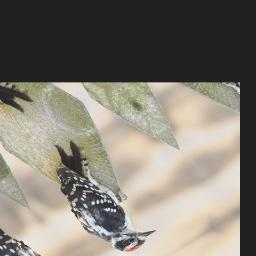Woodpecker: (20, 137, 163, 256)
